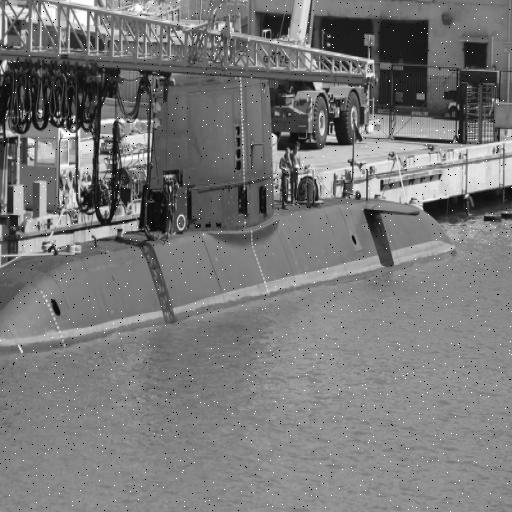submarine: (1, 22, 454, 362)
